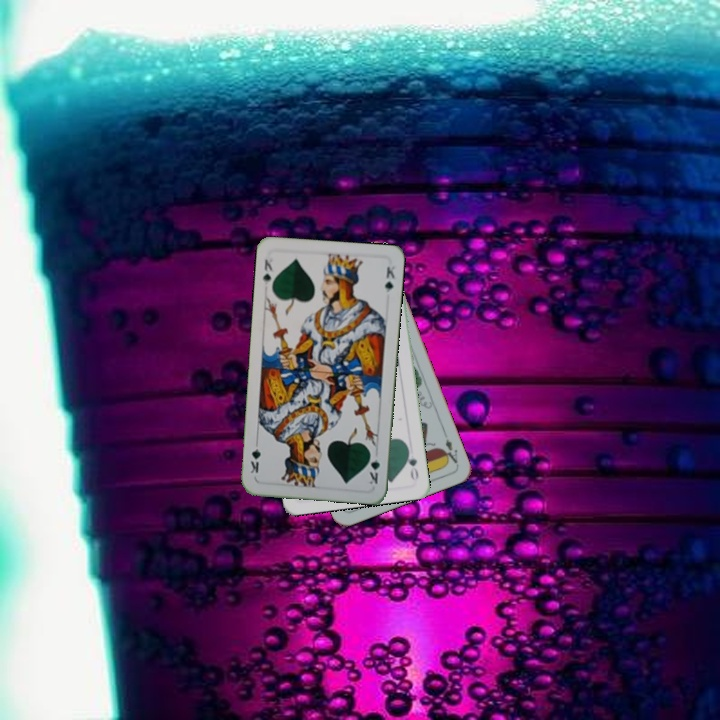EA: (439, 435, 460, 466)
GK: (365, 447, 382, 487), (258, 255, 276, 288)
GO: (402, 443, 421, 483)
